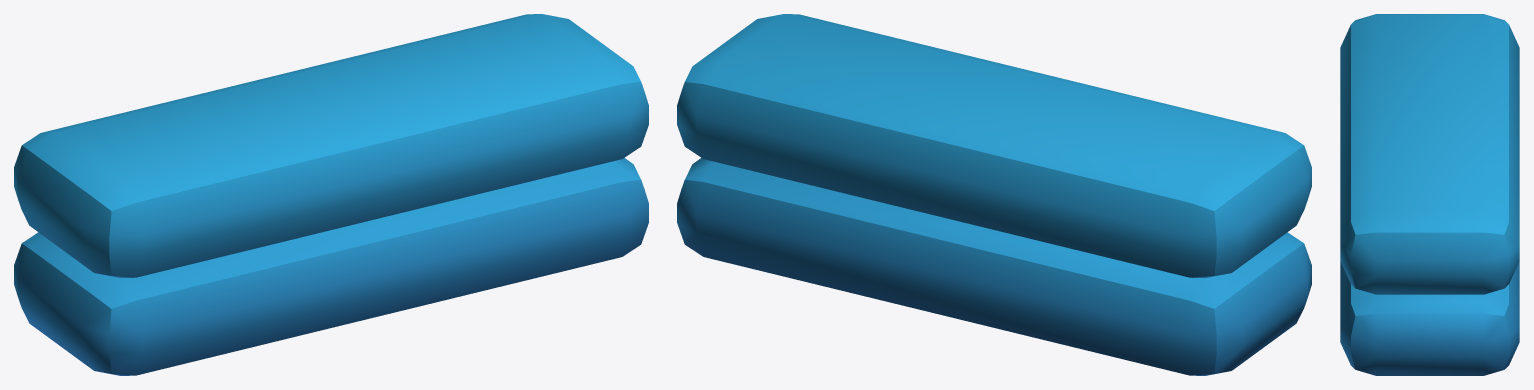
The model's file is barrier_3x1x1_blue.glb.
The picture shows the model from 3 angles, left to right: view 1: azimuth 30°, elevation 25°; view 2: azimuth 150°, elevation 25°; view 3: azimuth 270°, elevation 25°; orthographic projection. The views are drawn at different scales.
Parts seen in each view (by area): view 1: barrier_3x1x1_blue; view 2: barrier_3x1x1_blue; view 3: barrier_3x1x1_blue.
Boxes of the visible parts, x1,y1,x2,y2 form: barrier_3x1x1_blue: (14, 14, 648, 375); barrier_3x1x1_blue: (677, 14, 1311, 375); barrier_3x1x1_blue: (1340, 14, 1519, 375).
Size of the model in its own units: 3 by 1 by 1.
Materials: 1 (1 with a texture image).
